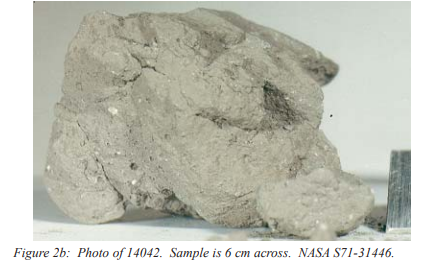Breccia: (50, 5, 374, 235), (68, 54, 312, 178)
